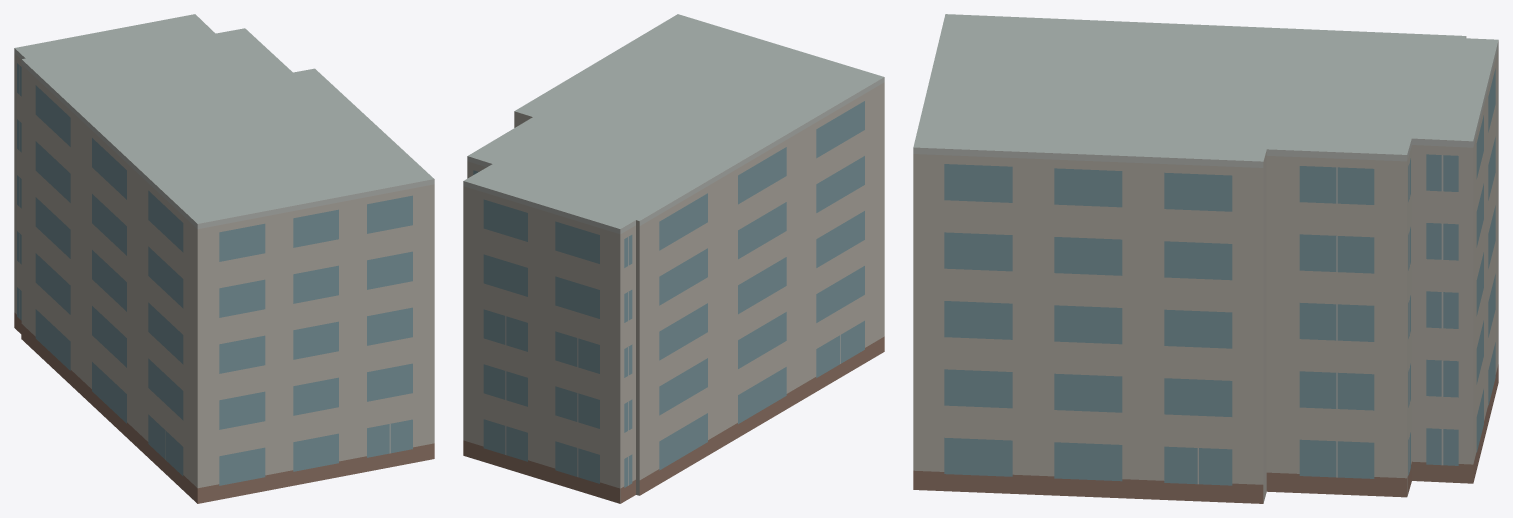
The model's file is survey-upis-32662986.glb.
The picture shows the model from 3 angles, left to right: view 1: azimuth 30°, elevation 25°; view 2: azimuth 150°, elevation 25°; view 3: azimuth 270°, elevation 25°; orthographic projection. The views are drawn at different scales.
Parts seen in each view (by area): view 1: survey-upis-32662986.tmp; view 2: survey-upis-32662986.tmp; view 3: survey-upis-32662986.tmp.
Boxes of the visible parts, box(x1,y1,x2,y2) form: survey-upis-32662986.tmp: box(14, 14, 434, 503); survey-upis-32662986.tmp: box(463, 14, 884, 503); survey-upis-32662986.tmp: box(913, 14, 1498, 503).
Size of the model in its own units: 12.03 by 13 by 20.16.
